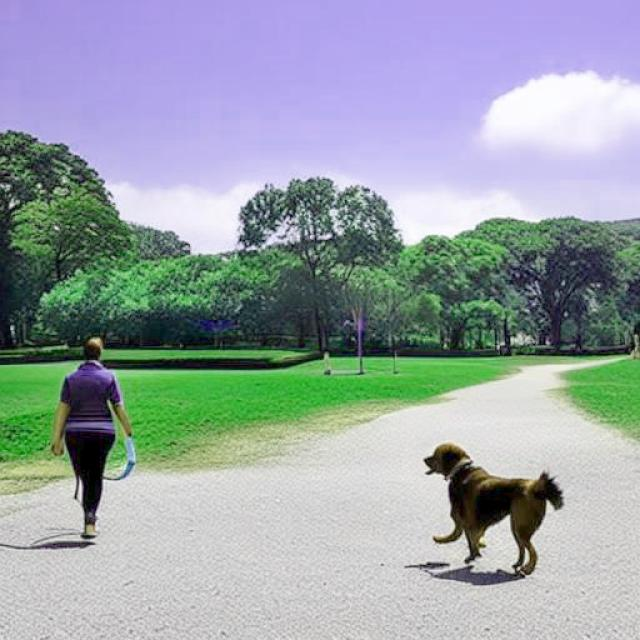Unleashed_Dog: (66, 420, 565, 577)
